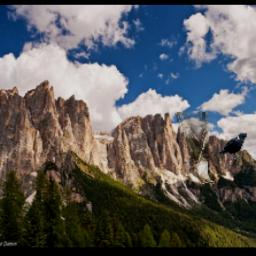Crow: (217, 134, 247, 161)
Cuckoo: (177, 113, 214, 184)
